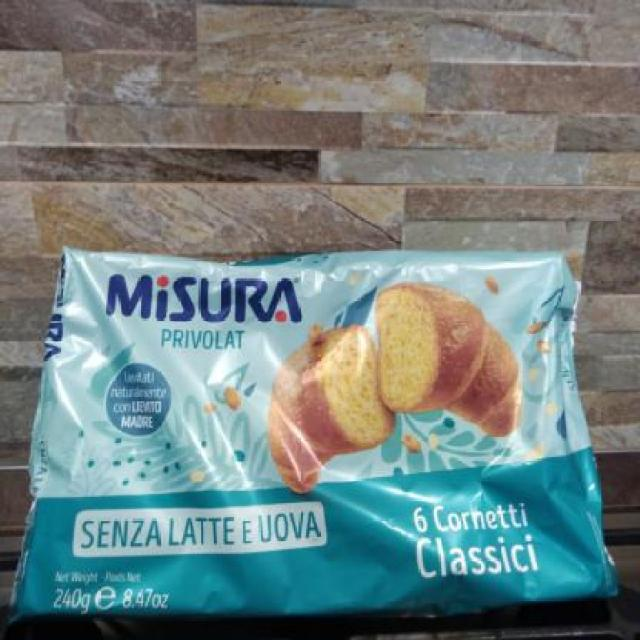Merendine: (8, 244, 624, 626)
